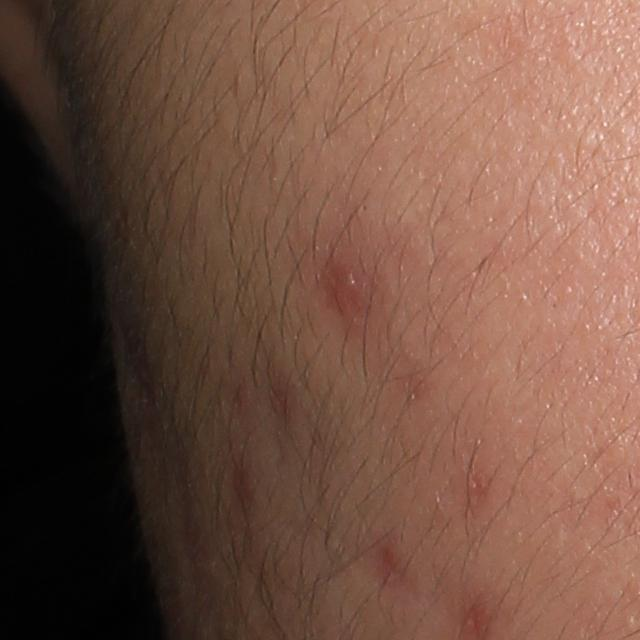papule: (317, 255, 388, 316)
